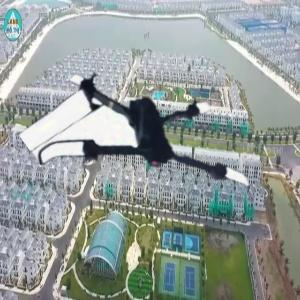drone: (50, 43, 253, 246)
